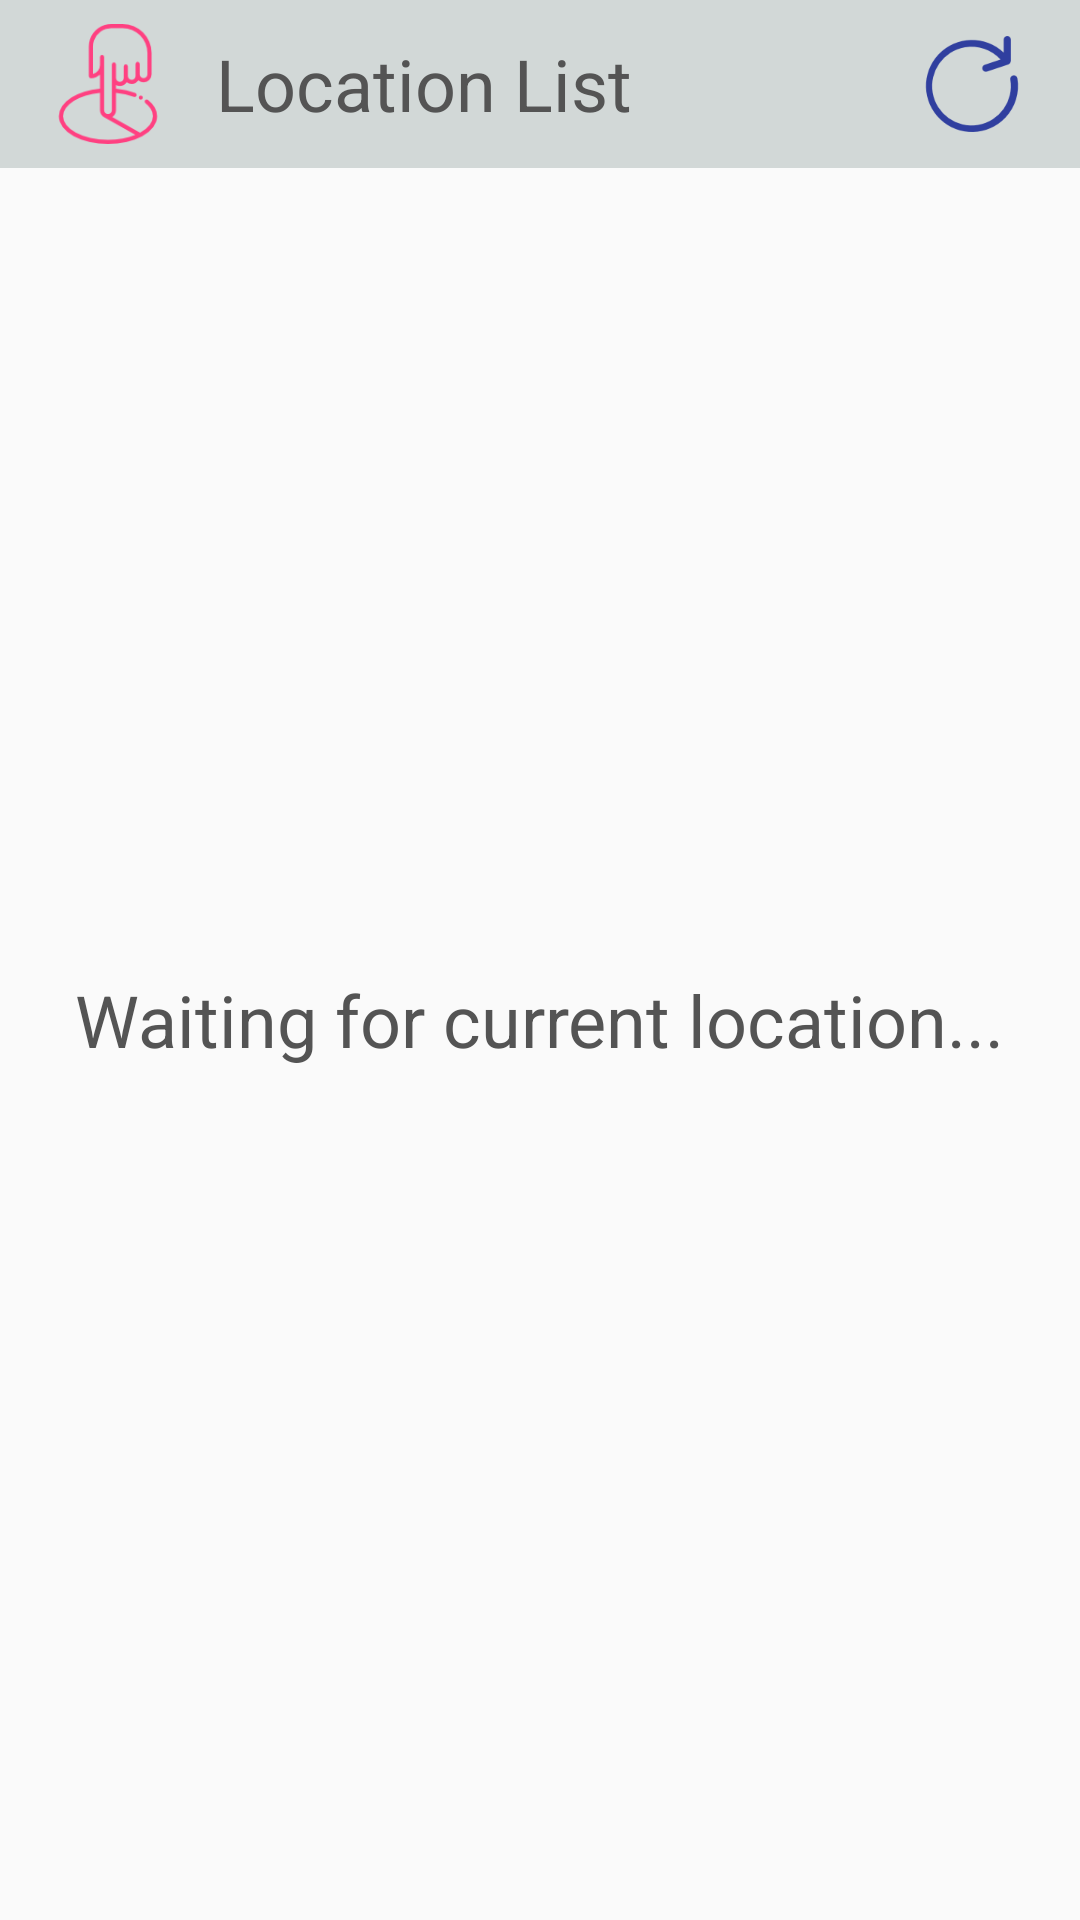

Icon bounding boxes for this 1080 × 1920 phone screenshot, format (x1, y1, x2, y2):
position: (58, 24, 158, 144)
refresh: (925, 36, 1018, 132)
